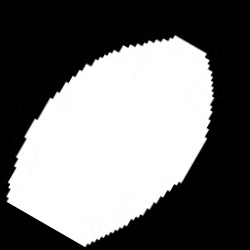spot: (6, 37, 214, 243)
